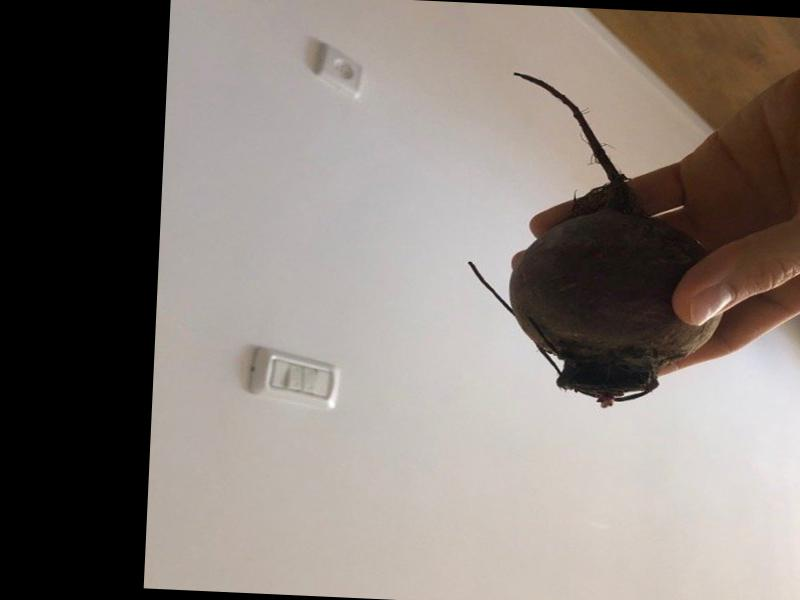Beet: (459, 69, 734, 412)
